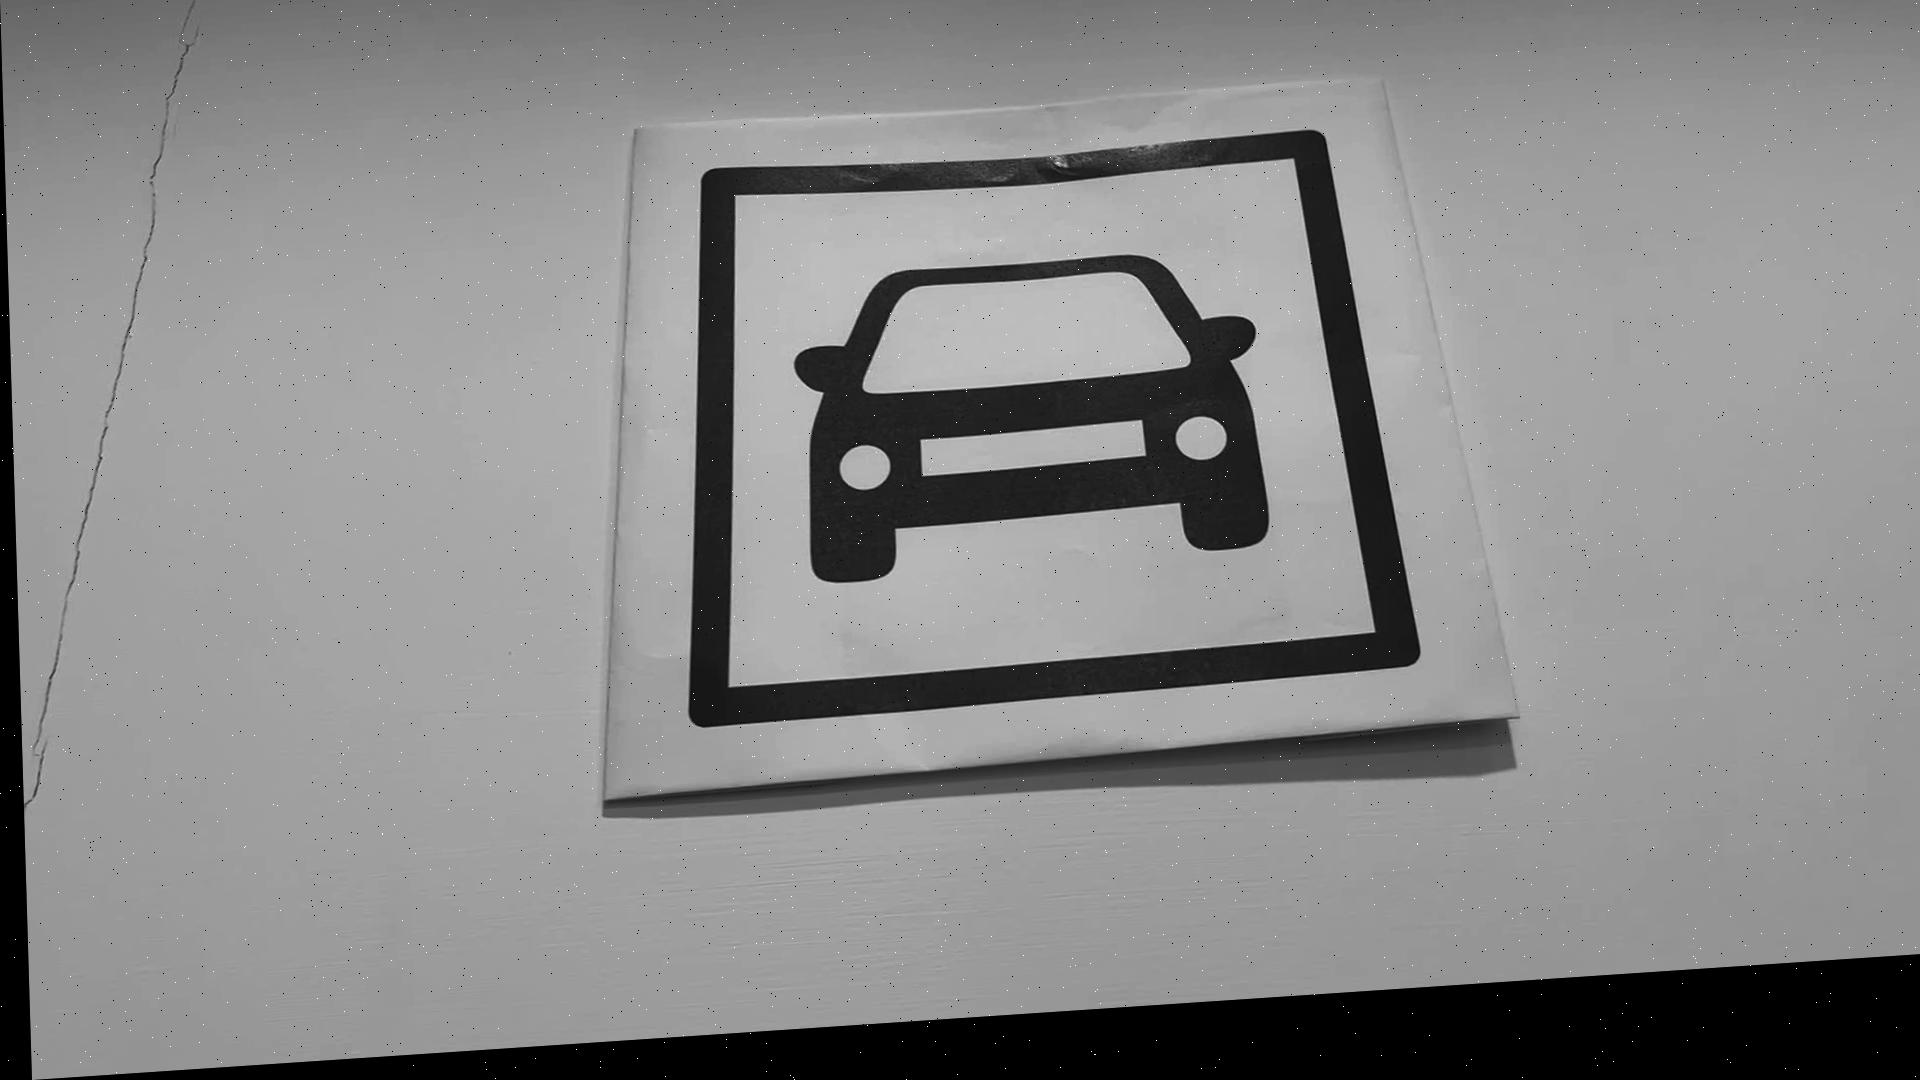car_img: (666, 133, 1425, 742)
